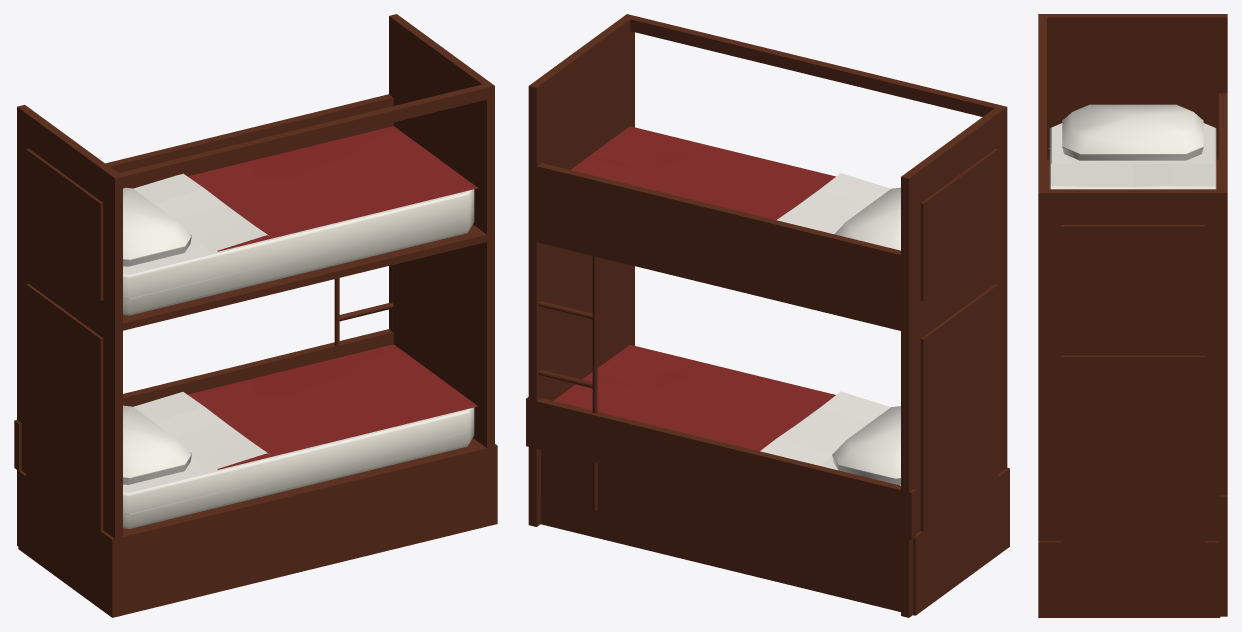
The model's file is parametric-sized-berth-double-l170-2nd.glb.
The picture shows the model from 3 angles, left to right: view 1: azimuth 30°, elevation 25°; view 2: azimuth 150°, elevation 25°; view 3: azimuth 270°, elevation 25°; orthographic projection. The views are drawn at different scales.
Visible parts, largest first — view 1: parametric-sized-berth-double-l170-2nd; view 2: parametric-sized-berth-double-l170-2nd; view 3: parametric-sized-berth-double-l170-2nd.
Boxes of the visible parts, x1,y1,x2,y2 form: parametric-sized-berth-double-l170-2nd: (14, 14, 497, 617); parametric-sized-berth-double-l170-2nd: (526, 14, 1009, 617); parametric-sized-berth-double-l170-2nd: (1038, 14, 1227, 617).
Size of the model in its own units: 1.7 by 1.85 by 0.75.
